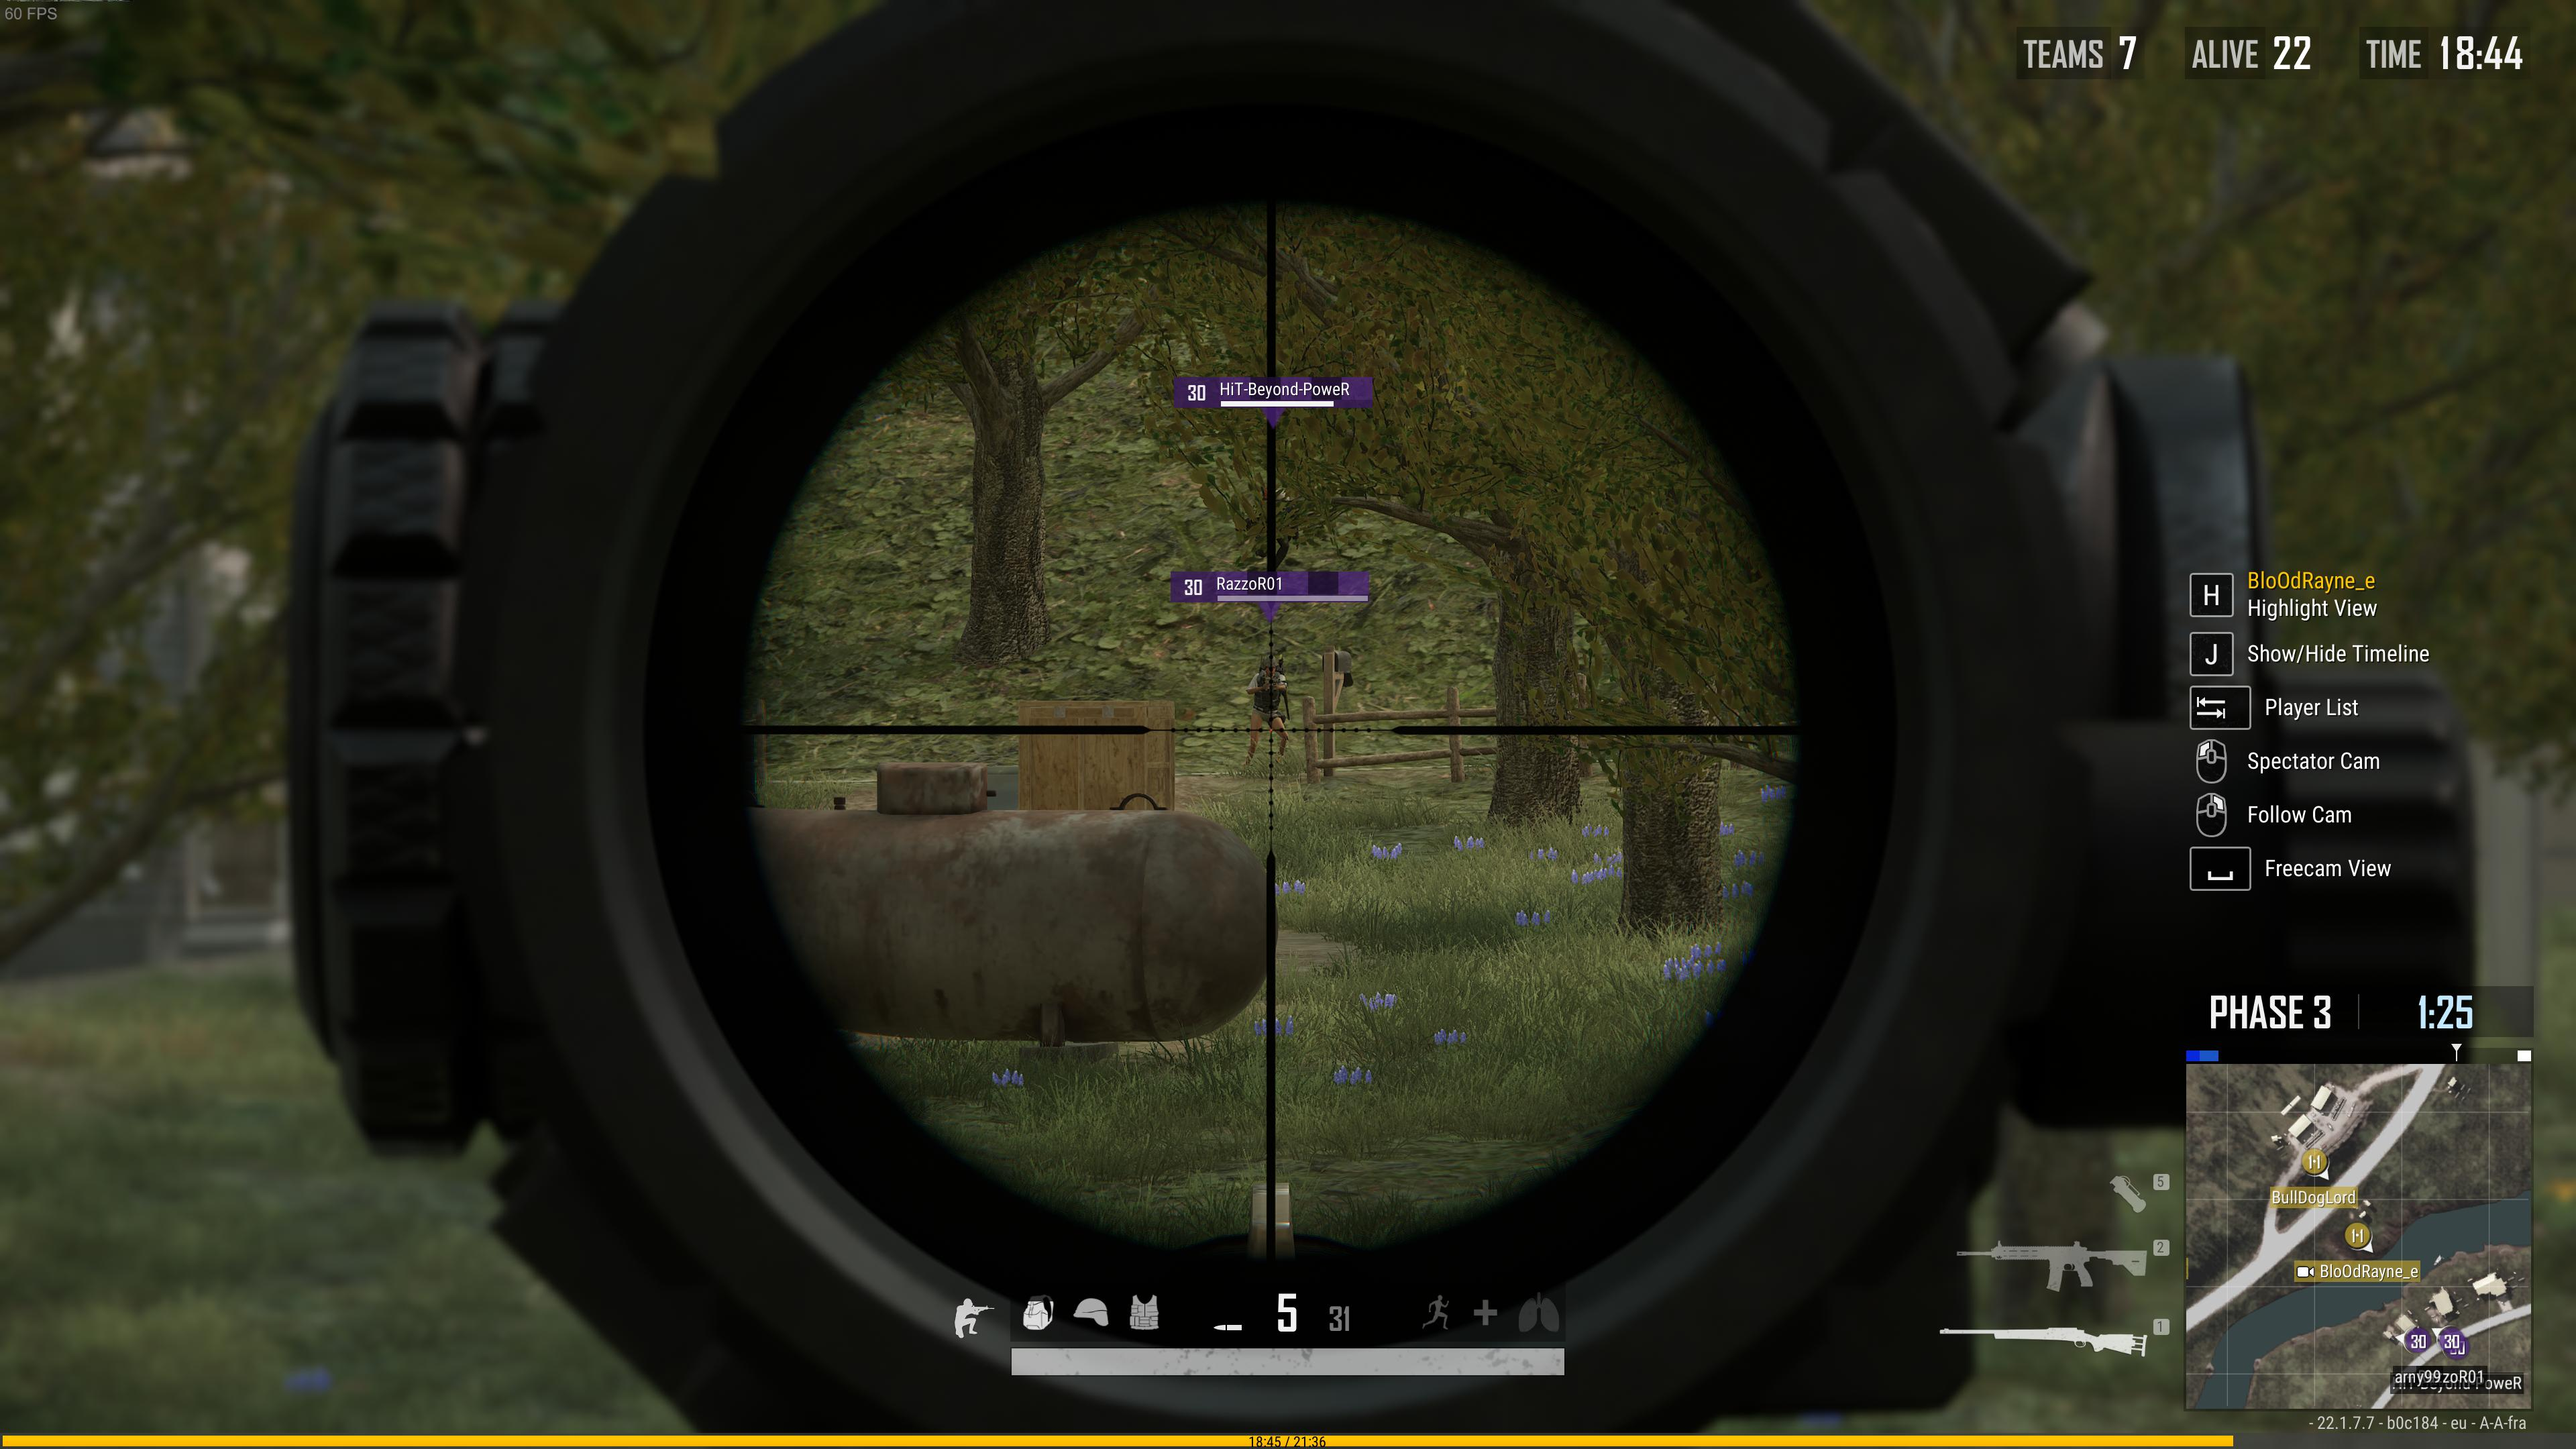enemy: (1242, 651, 1292, 771)
enemy_head: (1260, 655, 1277, 678)
